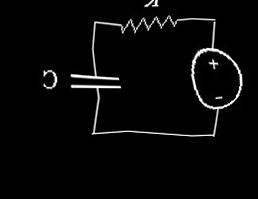Battery: (179, 42, 249, 117)
